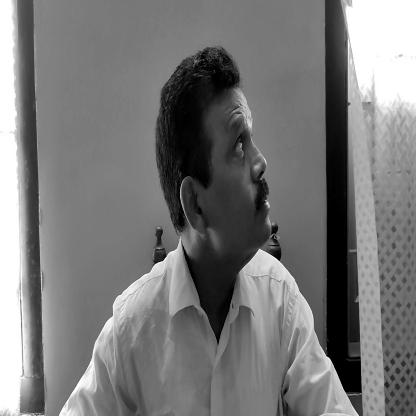Distracted: (156, 46, 272, 264)
